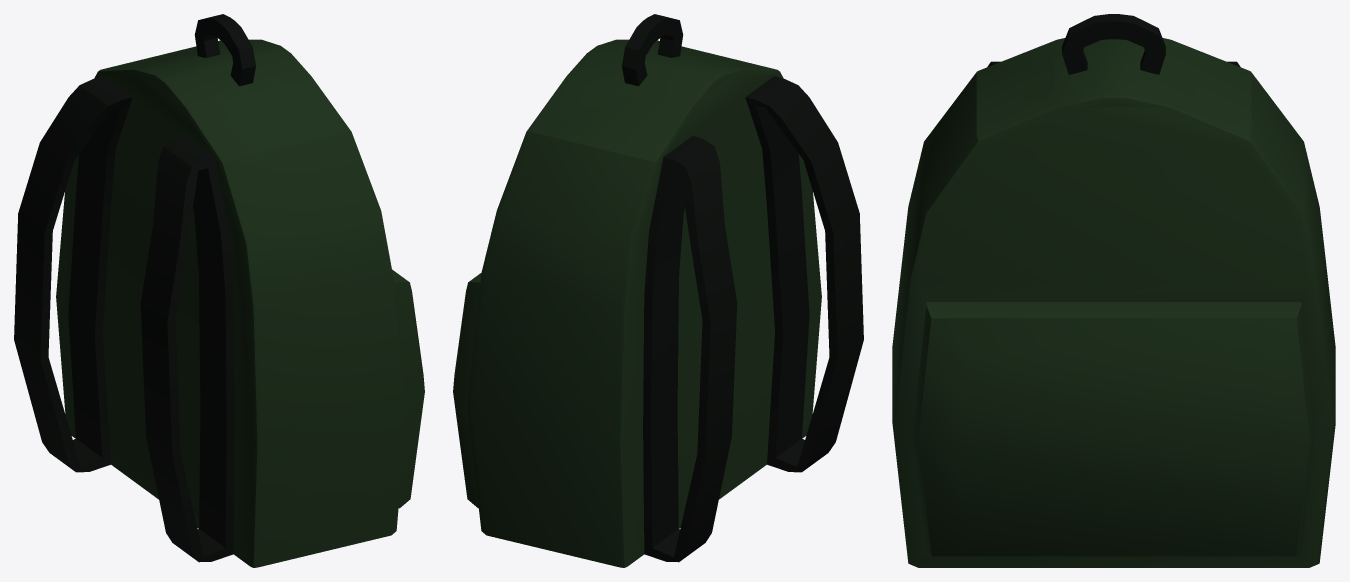
File: Sac à dos.fbx
The picture shows the model from 3 angles, left to right: view 1: azimuth 30°, elevation 25°; view 2: azimuth 150°, elevation 25°; view 3: azimuth 270°, elevation 25°; orthographic projection. The views are drawn at different scales.
Visible parts, largest first — view 1: Object002; view 2: Object002; view 3: Object002.
Part boxes in pixels (left/top/right/bottom): Object002: left=14, top=14, right=424, bottom=567; Object002: left=453, top=14, right=863, bottom=567; Object002: left=892, top=14, right=1335, bottom=567.
Size of the model in its own units: 0.3187 by 0.546 by 0.4311.
